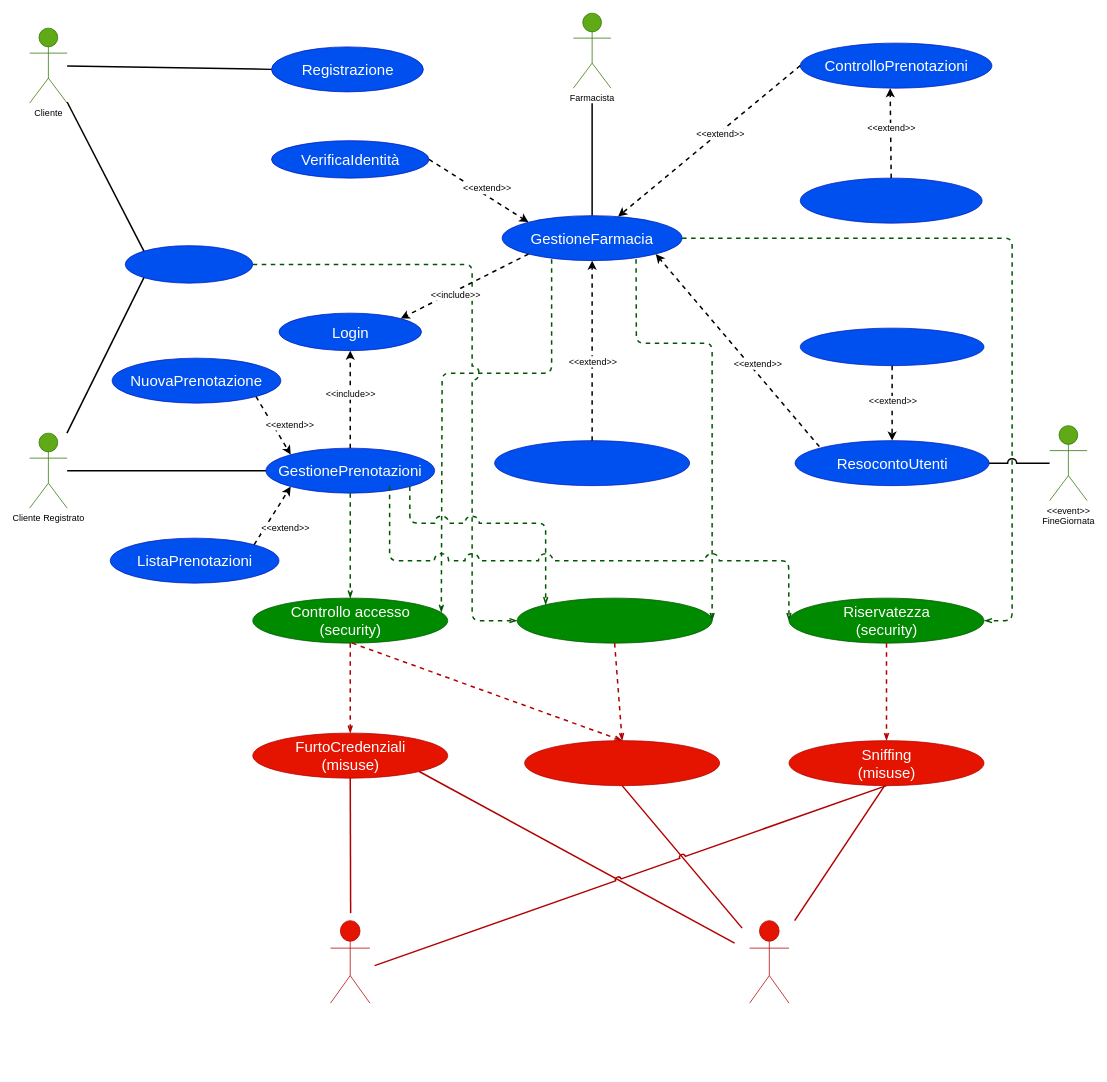
The diagram is 1107 pixels wide and 1082 high, and some of its shapes have lost their labels. Here are the shapes that lost their labels. From the top down, the box of each, then its label:
(800, 177, 982, 223): ConfermaPrenotazione
(124, 245, 253, 283): Ricerca Farmaci
(800, 327, 984, 366): SospensioneUtenza
(494, 440, 690, 486): ResocontoFarmaci
(516, 597, 712, 643): Integrità (security)
(524, 740, 720, 786): ManInTheMiddle (misuse)
(330, 920, 370, 1003): Truffatore
(749, 920, 789, 1003): Hacker
